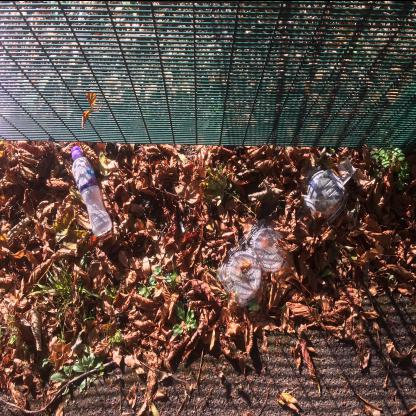plastik: (216, 216, 290, 306), (70, 145, 112, 236), (292, 164, 349, 230)
